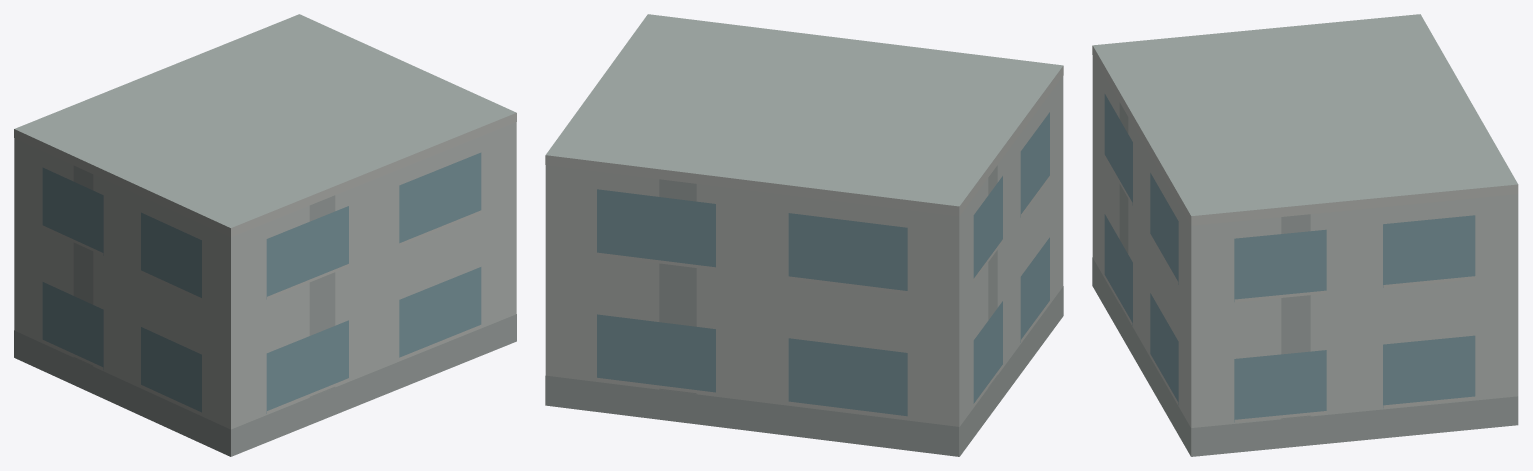
Rendered from survey-upis-33036345.glb.
3 views of the same model, side by side, from view 1: azimuth 30°, elevation 25°; view 2: azimuth 150°, elevation 25°; view 3: azimuth 270°, elevation 25° (orthographic). The views are drawn at different scales.
Visible parts, largest first — view 1: survey-upis-33036345.tmp; view 2: survey-upis-33036345.tmp; view 3: survey-upis-33036345.tmp.
Part boxes in pixels (x1,y1,x2,y2): survey-upis-33036345.tmp: (14, 14, 516, 456); survey-upis-33036345.tmp: (545, 14, 1063, 456); survey-upis-33036345.tmp: (1092, 14, 1518, 456).
Bounding box in the file's own units: 11 × 6.1 × 9.79.
